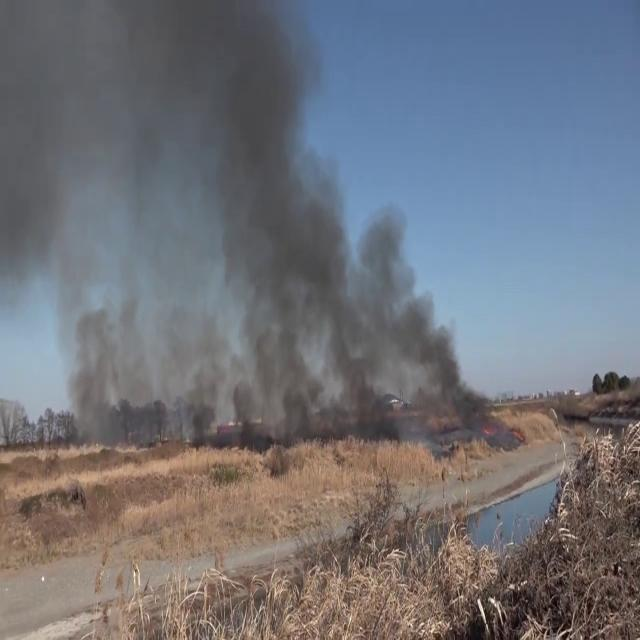Smoke: (0, 0, 473, 437), (158, 2, 478, 434), (0, 0, 164, 439)
